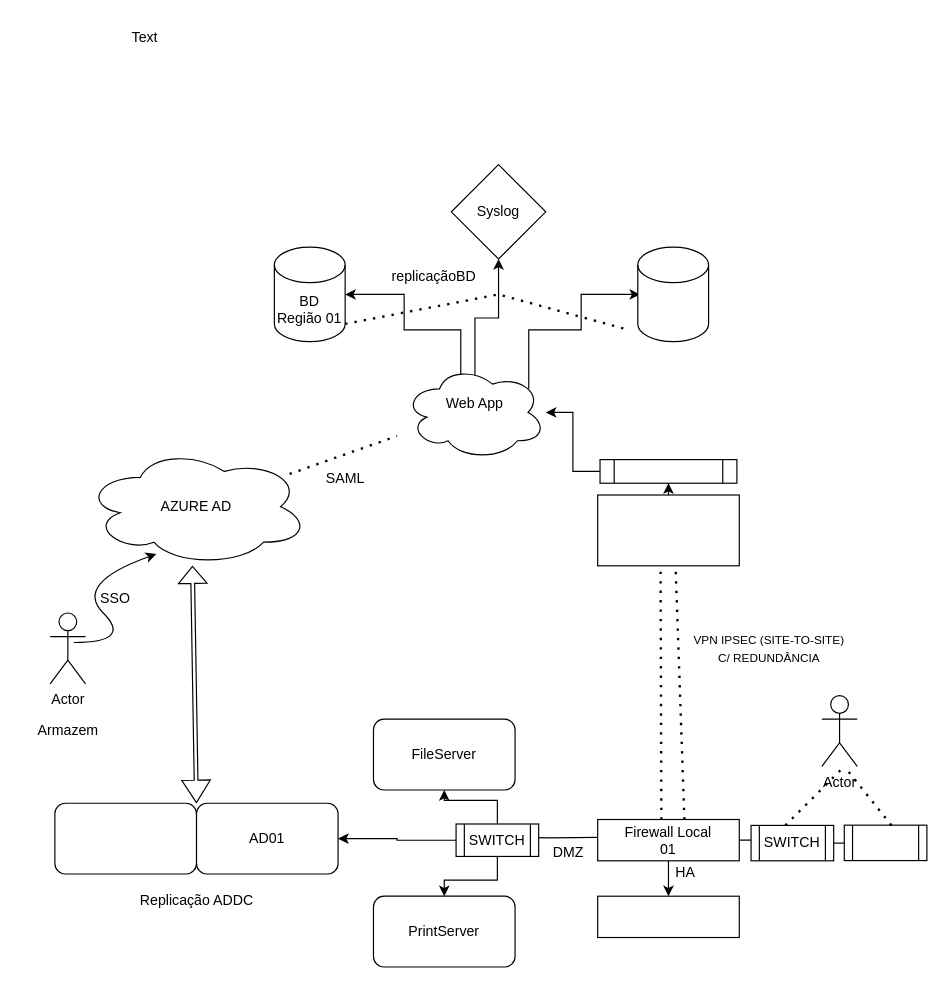
This 948x988 diagram has some shape labels left out. Each missing label, with the centre of its shape:
"AD02" belongs at point (125, 838).
"AP WI-FI" belongs at point (885, 842).
"BD Região02" belongs at point (673, 294).
"Firewall Local 02" belongs at point (667, 916).
"FW CLOUD" belongs at point (667, 530).
"WAF" belongs at point (668, 470).
